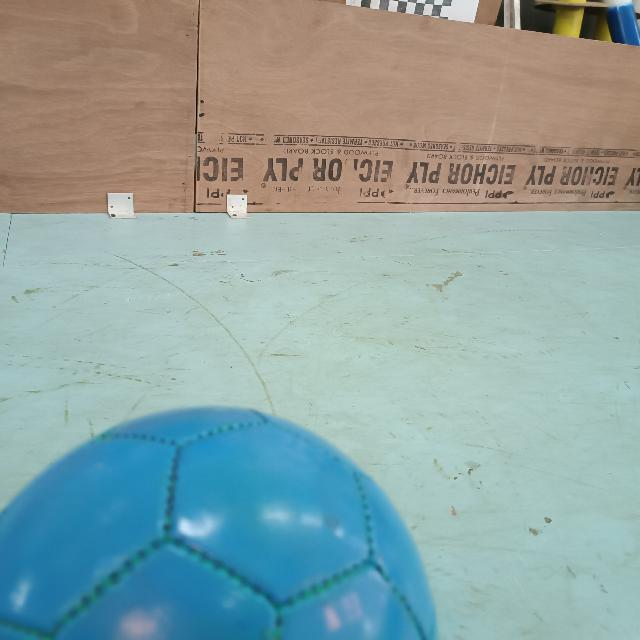B: (0, 398, 446, 640)
